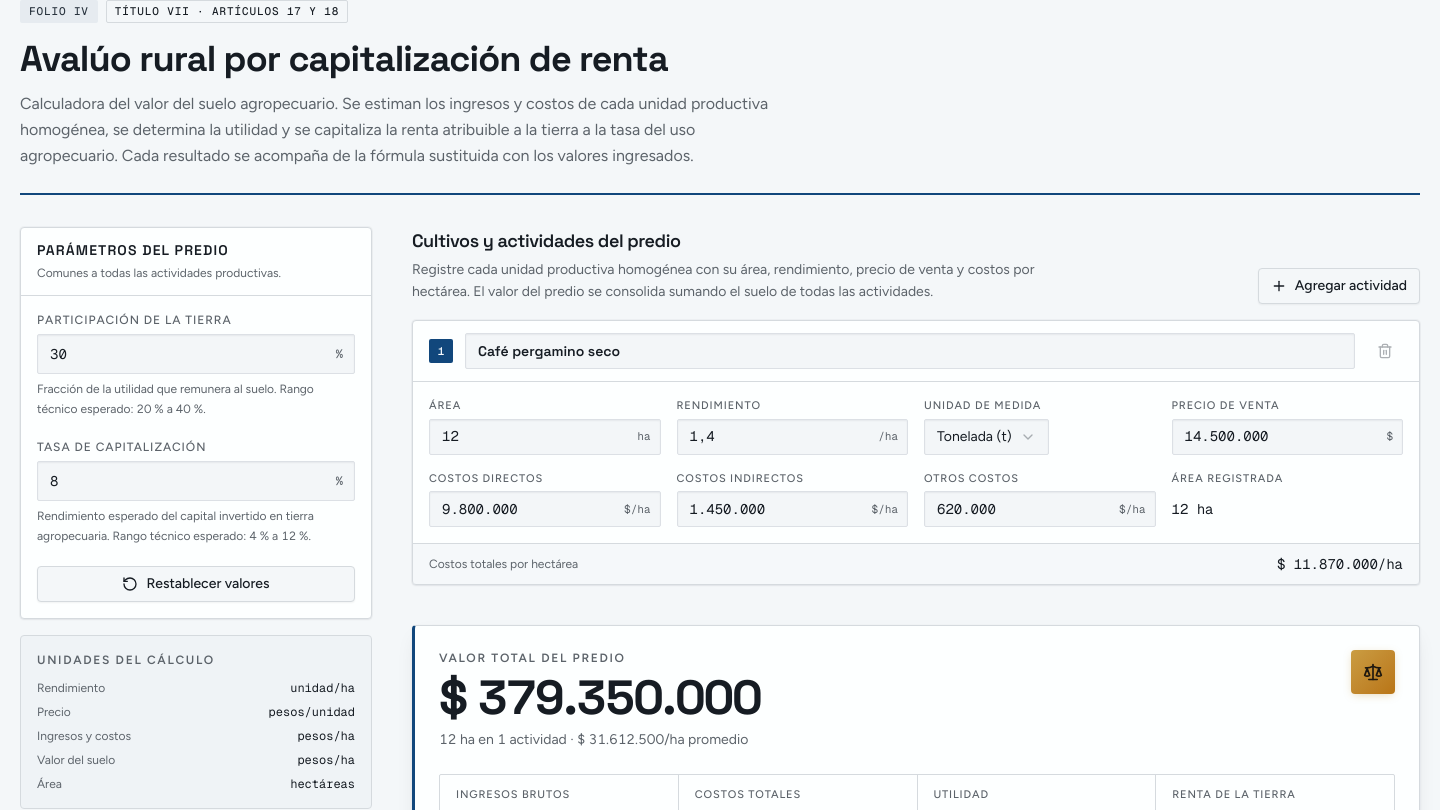
AvaluoRuralPage › recalcula el valor del predio al editar el área del cultivo
Check: the text "$ 379.350.000" is shown, box top-left (439, 674), bottom-right (761, 722)
Replace the text in the field with test id "rural.cultivo.area_input.1" with "24" at (545, 436), box top-left (429, 418), bottom-right (660, 454)
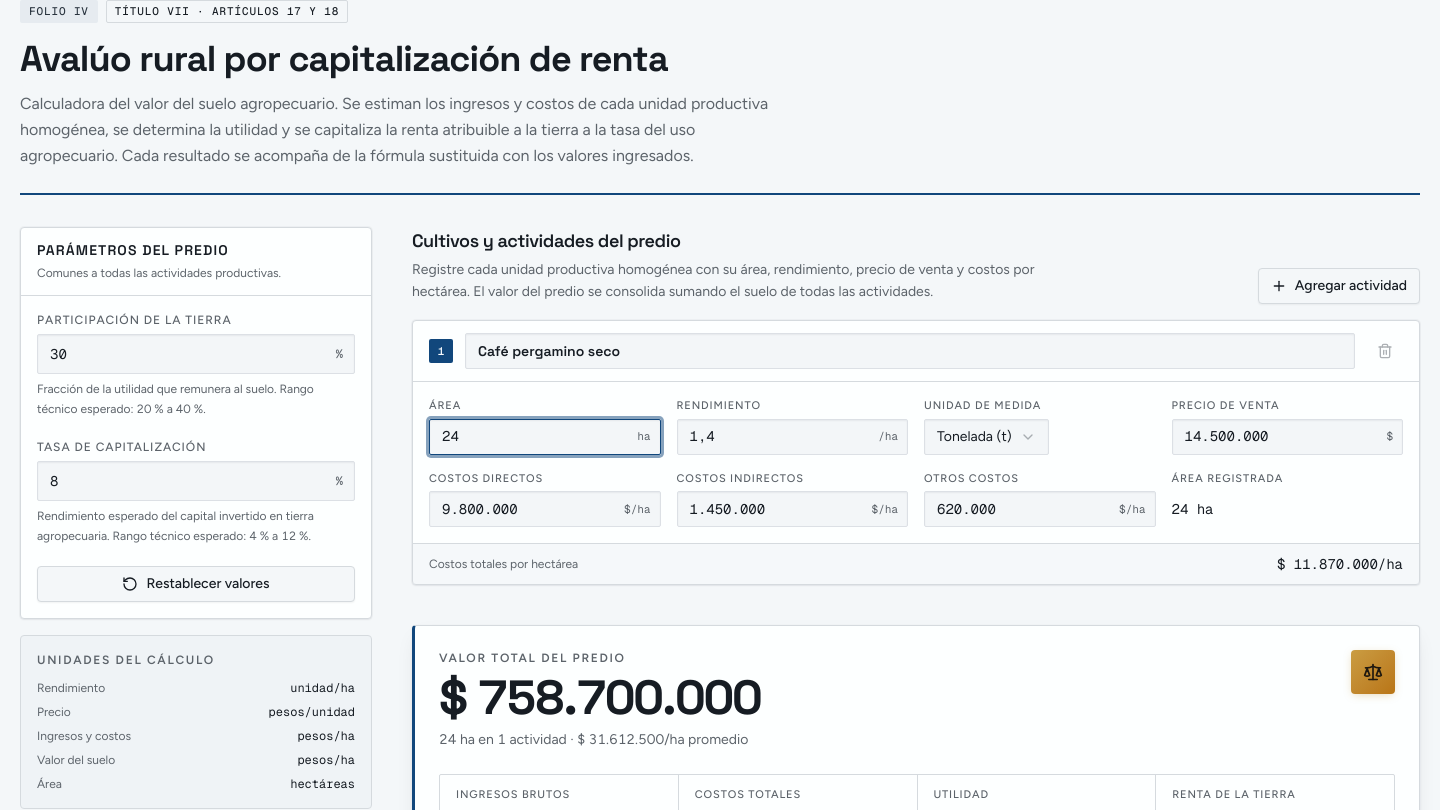
Check: the text "$ 758.700.000" is shown, box top-left (439, 674), bottom-right (761, 722)
